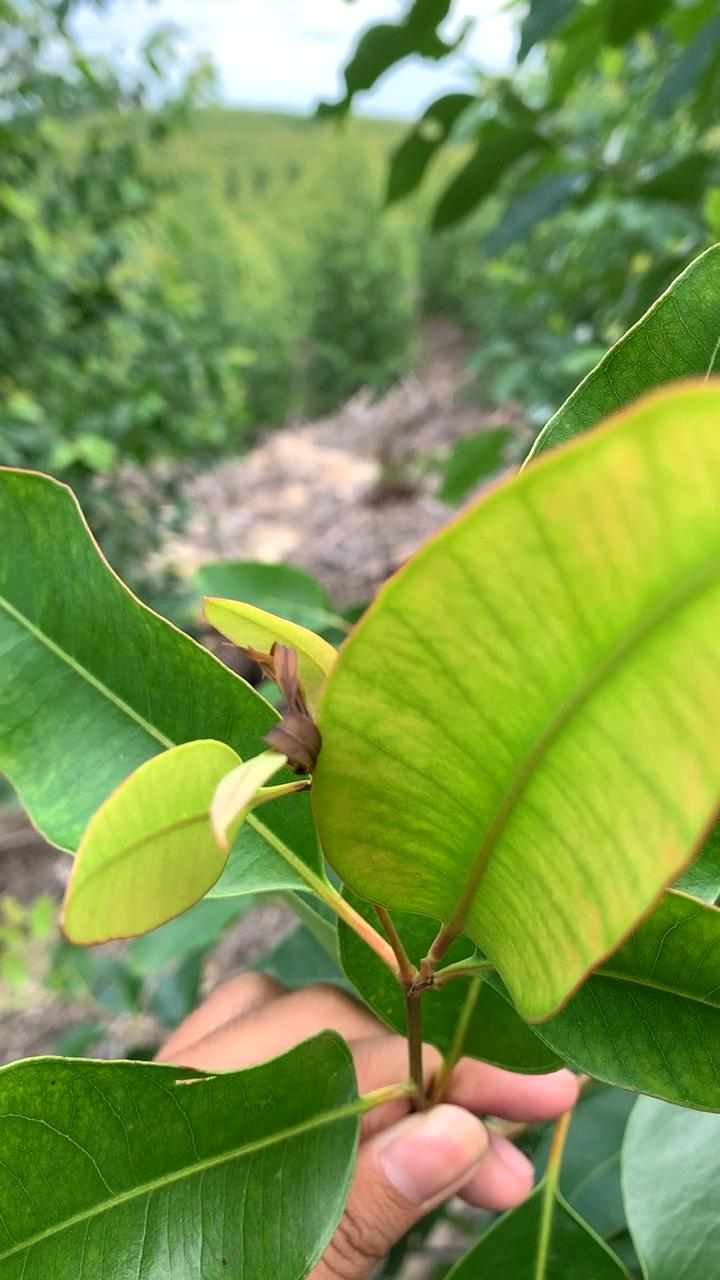Helopeltis-Withered Sprout: (223, 628, 353, 801)
